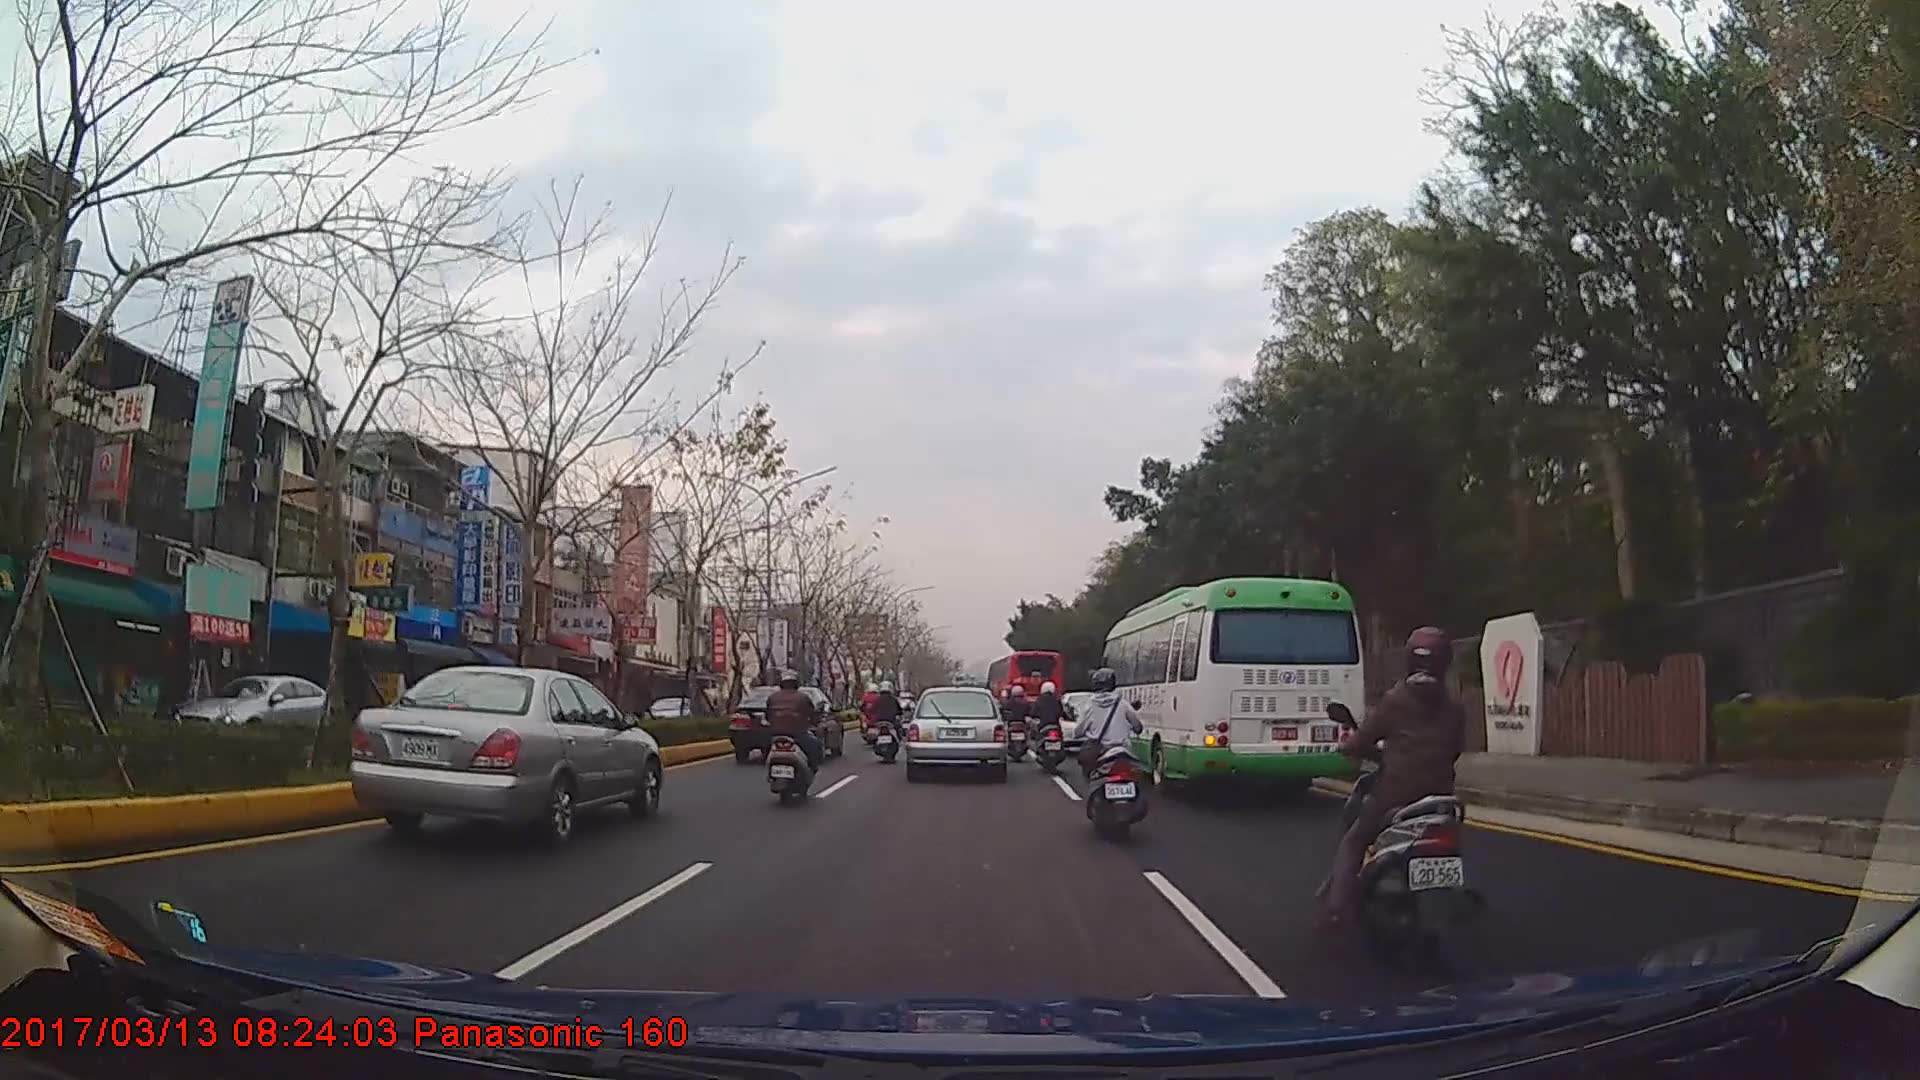rider: (1327, 621, 1484, 961), (1072, 665, 1145, 842), (761, 671, 827, 805), (1029, 680, 1067, 771), (868, 682, 906, 763), (999, 682, 1033, 762), (862, 683, 883, 747), (897, 692, 919, 742)
vehicle: (1094, 574, 1368, 792), (344, 659, 660, 844), (165, 669, 357, 756), (905, 685, 1008, 781), (728, 683, 844, 762), (986, 648, 1061, 737)
